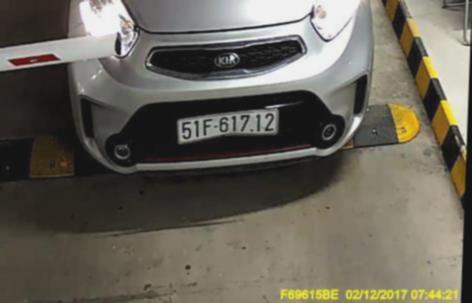License_Plate: (170, 107, 277, 143)
